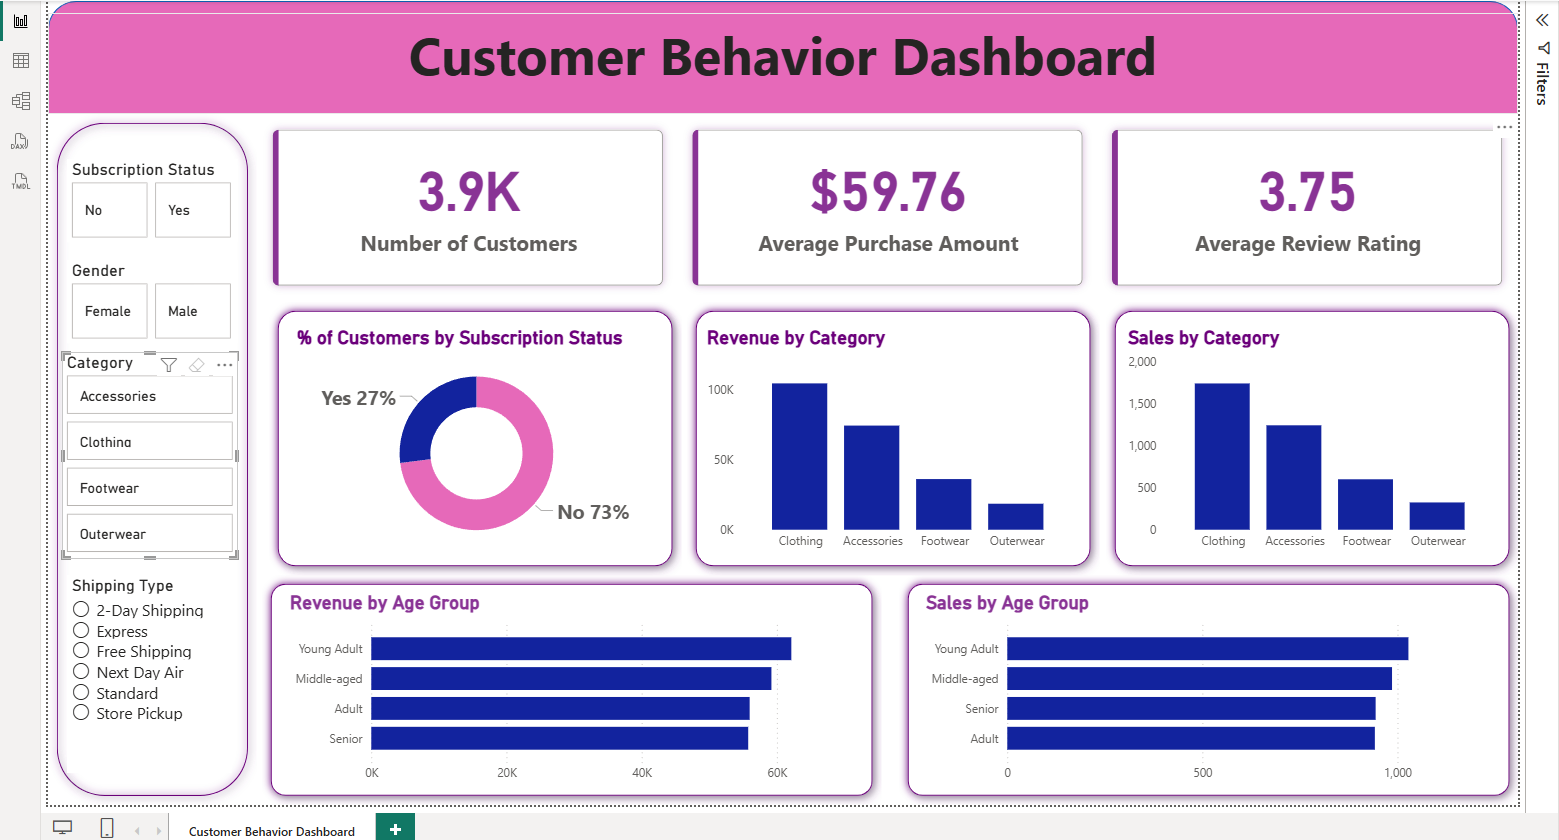

The page's visual inventory and layout, read from the dashboard file:
{"tool":"powerbi","page":{"name":"Page 1","canvas":[1500,820],"ordinal":0},"visuals":[{"type":"cardVisual","fields":{"Data":["public customer.Number of Customers","public customer.Average Purchase Amount","public customer.Average Review Rating"]},"box":[212.9,115.3,1286.5,191.6],"z":2000},{"type":"shape","box":[218.3,585.6,631.7,234.2],"z":2500,"group":"g1"},{"type":"shape","box":[0,0,1499.4,115.3],"z":3000},{"type":"textbox","box":[0,12.4,1499.4,102.9],"z":4000},{"type":"shape","box":[225.4,307,420.5,278.6],"z":5000},{"type":"donutChart","title":"% of Customers by Subscription Status","fields":{"Category":["public customer.subscription_status"],"Y":["CountNonNull(public customer.customer_id)"]},"box":[248.4,331.8,376.2,237.8],"z":6000},{"type":"shape","box":[1078.9,307,420.5,278.6],"z":7000},{"type":"shape","box":[652.1,307,420.5,278.6],"z":8000},{"type":"clusteredColumnChart","title":"Revenue by Category","fields":{"Y":["Sum(public customer.purchase_amount)"],"Category":["public customer.category"]},"box":[667.2,331.8,385.1,237.8],"z":9000},{"type":"clusteredColumnChart","title":"Sales by Category","fields":{"Y":["CountNonNull(public customer.customer_id)"],"Category":["public customer.category"]},"box":[1096.6,331.8,385.1,237.8],"z":10000},{"type":"shape","box":[0,115.3,212.9,704.5],"z":11000},{"type":"advancedSlicerVisual","fields":{"Values":["public customer.subscription_status"]},"box":[19.5,161.5,173.9,85.2],"z":12000},{"type":"advancedSlicerVisual","fields":{"Values":["public customer.gender"]},"box":[19.5,264.4,173.9,85.2],"z":13000},{"type":"advancedSlicerVisual","fields":{"Values":["public customer.category"]},"box":[14.3,358,179.5,211.1],"z":14000},{"type":"listSlicer","fields":{"Values":["public customer.shipping_type"]},"box":[19.4,585.4,168.3,201.9],"z":15000},{"type":"shape","box":[867.7,585.6,631.7,234.2],"z":16000},{"type":"clusteredBarChart","title":"Sales by Age Group","fields":{"Y":["CountNonNull(public customer.customer_id)"],"Category":["public customer.age_group"]},"box":[890.8,601.5,585.6,204.1],"z":17000},{"type":"clusteredBarChart","title":"Revenue by Age Group","fields":{"Y":["Sum(public customer.purchase_amount)"],"Category":["public customer.age_group"]},"box":[241.4,601.6,585.6,204.1],"z":17500,"group":"g1"},{"type":"group","id":"g1","title":"Group 1","box":[218.3,585.6,631.7,234.2],"z":17501}]}

Visuals, with their boxes in screenshot pixels (x1, y1, x2, y2):
cardVisual - public customer.Number of Customers x public customer.Average Purchase Amount: l=264, t=112, r=1519, b=299
shape: l=270, t=571, r=885, b=799
shape: l=57, t=0, r=1519, b=112
textbox: l=57, t=12, r=1519, b=112
shape: l=277, t=299, r=687, b=571
"% of Customers by Subscription Status" donutChart: l=299, t=323, r=666, b=555
shape: l=1109, t=299, r=1519, b=571
shape: l=693, t=299, r=1102, b=571
"Revenue by Category" clusteredColumnChart: l=707, t=323, r=1083, b=555
"Sales by Category" clusteredColumnChart: l=1126, t=323, r=1501, b=555
shape: l=57, t=112, r=264, b=799
advancedSlicerVisual - public customer.subscription_status: l=76, t=157, r=245, b=241
advancedSlicerVisual - public customer.gender: l=76, t=258, r=245, b=341
advancedSlicerVisual - public customer.category: l=71, t=349, r=246, b=555
listSlicer - public customer.shipping_type: l=76, t=571, r=240, b=768
shape: l=903, t=571, r=1519, b=799
"Sales by Age Group" clusteredBarChart: l=925, t=586, r=1496, b=785
"Revenue by Age Group" clusteredBarChart: l=292, t=586, r=863, b=785
"Group 1" group: l=270, t=571, r=885, b=799
